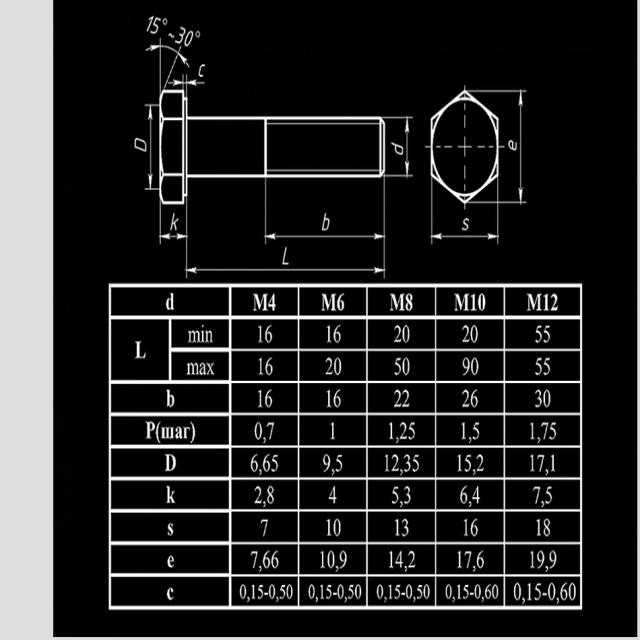marking_line: (182, 265, 387, 278), (263, 230, 386, 244), (430, 230, 500, 244), (518, 88, 525, 206), (148, 105, 155, 190), (402, 113, 411, 177), (170, 80, 206, 92), (161, 231, 191, 244)
numeric: (175, 23, 193, 50), (145, 14, 162, 39)
special_symbol: (193, 30, 203, 42), (161, 17, 169, 29)
